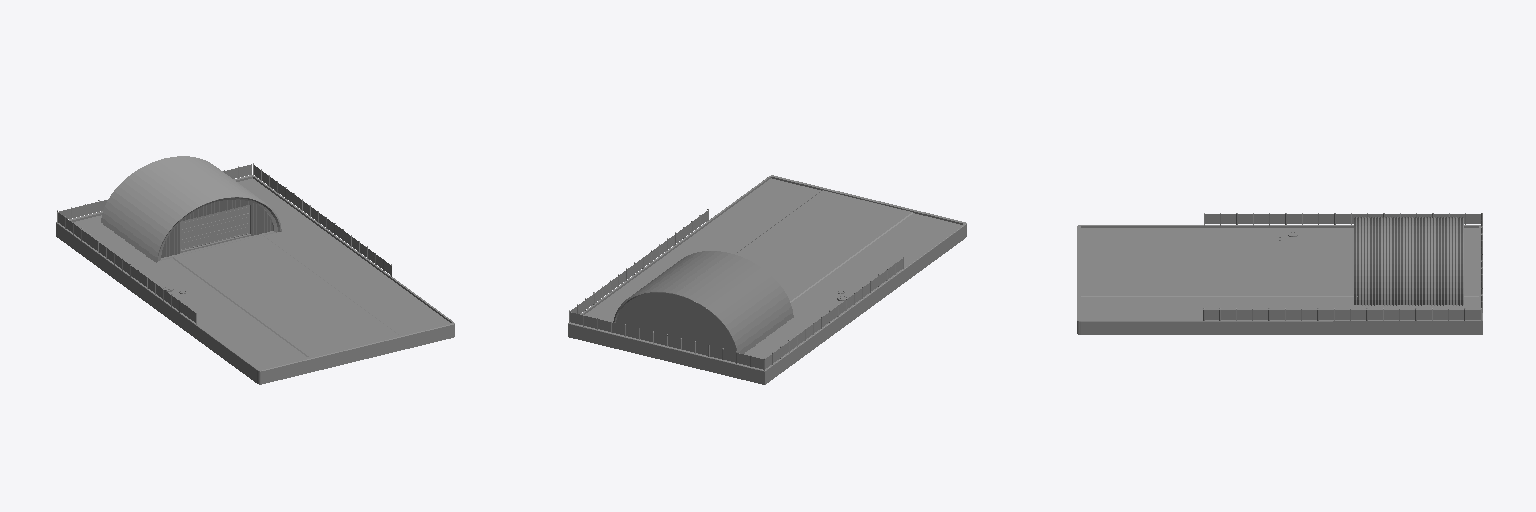
The model's file is runaway1.obj.
The picture shows the model from 3 angles: view 1: azimuth 30°, elevation 25°; view 2: azimuth 150°, elevation 25°; view 3: azimuth 270°, elevation 25°; orthographic projection.
Parts seen in each view (by area): view 1: obj3, obj2, obj1; view 2: obj3, obj2; view 3: obj3, obj2.
Part boxes in pixels (x1,y1,x2,y2): obj3: (56, 163, 454, 384); obj2: (101, 156, 281, 262); obj1: (181, 205, 249, 249); obj3: (568, 175, 966, 384); obj2: (613, 251, 793, 353); obj3: (1077, 213, 1482, 334); obj2: (1354, 217, 1463, 305).
Size of the model in its own units: 6499 by 1935 by 11615.